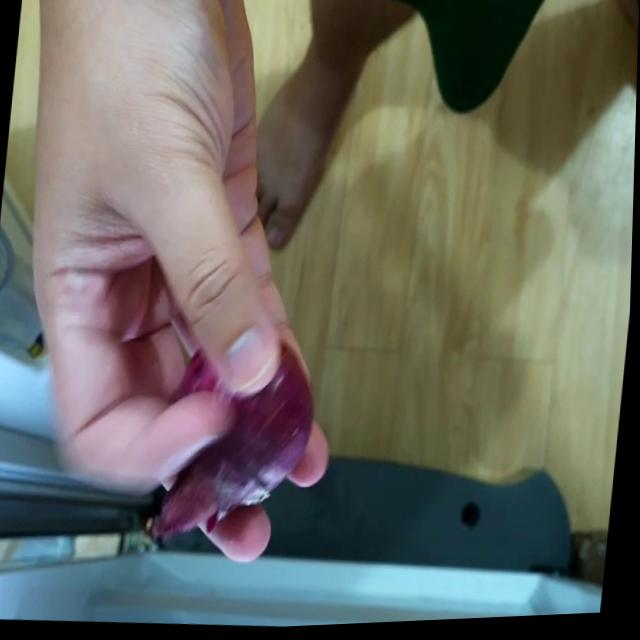onion: (157, 329, 322, 544)
